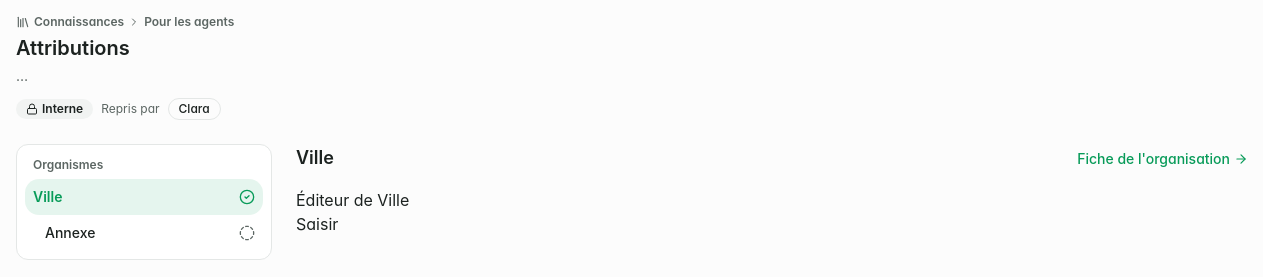
OrganizationKnowledgePage › change d'organisme au clic
This screenshot has width=1263, height=277.
Click the button "Annexe" at (144, 233), box left=25, top=215, right=263, bottom=251
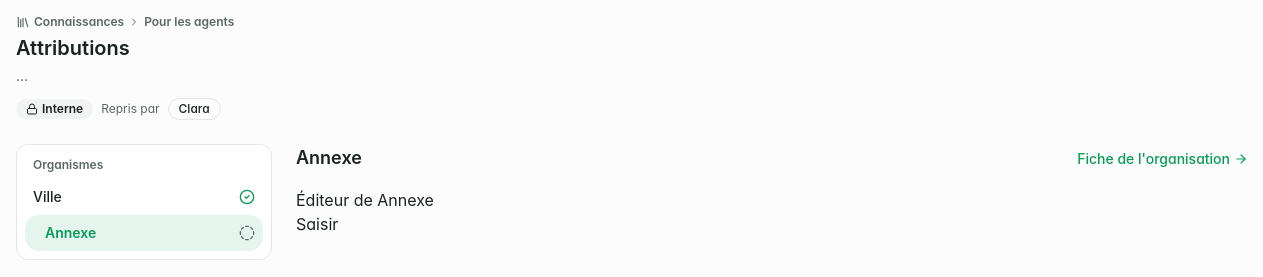
Expected: the text "Éditeur de Annexe" is shown, left=296, top=190, right=434, bottom=210
